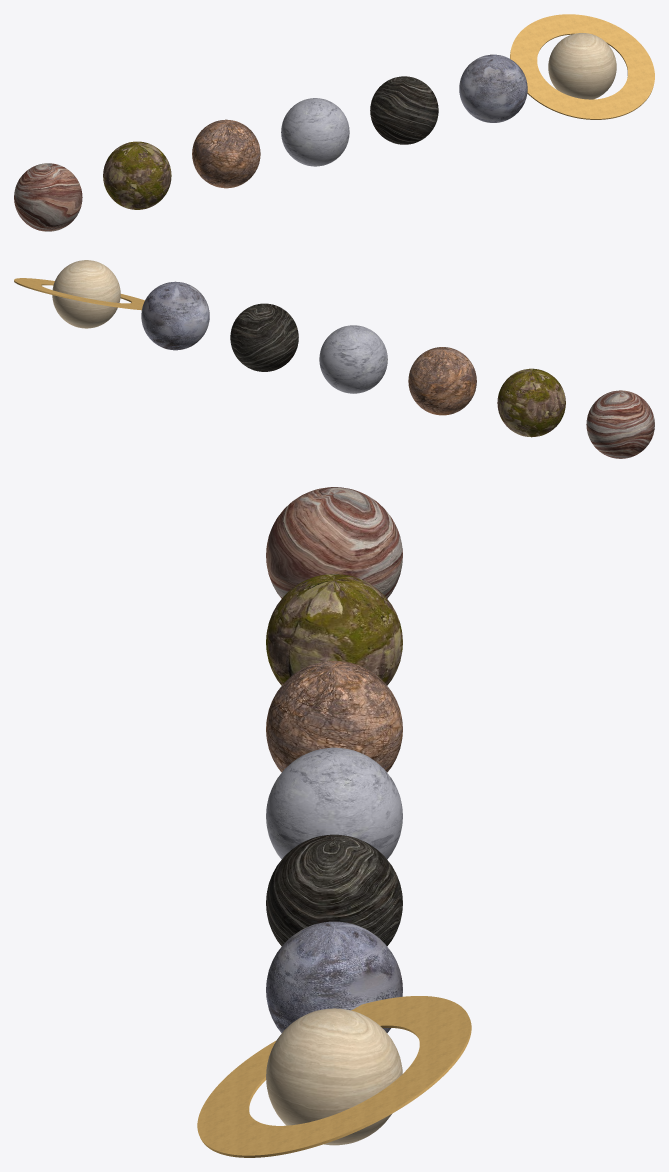
Rendered from orrery-planets-hd.glb.
The picture shows the model from 3 angles, top to bottom: view 1: azimuth 30°, elevation 25°; view 2: azimuth 150°, elevation 25°; view 3: azimuth 270°, elevation 25°; orthographic projection. The views are drawn at different scales.
Parts seen in each view (by area): view 1: planet-6-ring, planet-5, planet-2, planet-1, planet-4, planet-3, planet-0, planet-6; view 2: planet-0, planet-5, planet-3, planet-4, planet-1, planet-2, planet-6, planet-6-ring; view 3: planet-6-ring, planet-6, planet-4, planet-3, planet-2, planet-0, planet-1, planet-5.
Boxes of the visible parts, x1,y1,x2,y2 form: planet-6-ring: (510,14,654,119); planet-5: (459,54,527,122); planet-2: (192,119,260,188); planet-1: (103,141,171,209); planet-4: (370,76,438,144); planet-3: (281,98,349,166); planet-0: (14,163,82,231); planet-6: (548,33,616,99); planet-0: (586,390,654,458); planet-5: (141,281,209,350); planet-3: (319,325,387,393); planet-4: (230,303,298,371); planet-1: (497,368,565,437); planet-2: (408,347,476,415); planet-6: (52,260,120,328); planet-6-ring: (14,278,144,310); planet-6-ring: (197,996,471,1157); planet-6: (266,1008,402,1145); planet-4: (266,834,402,946); planet-3: (266,747,402,859); planet-2: (266,661,402,772); planet-0: (266,487,402,598); planet-1: (266,574,402,685); planet-5: (266,921,402,1032).
Bounding box in the file's own units: 21.15 × 2 × 4.
Materials: 8 (8 with a texture image).
